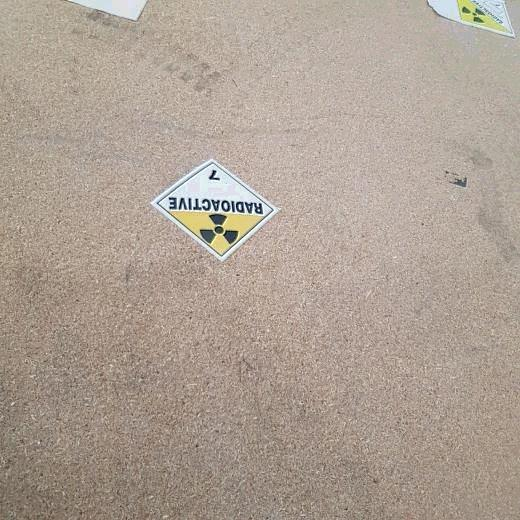radioactive: (144, 158, 279, 263), (458, 1, 514, 36)
